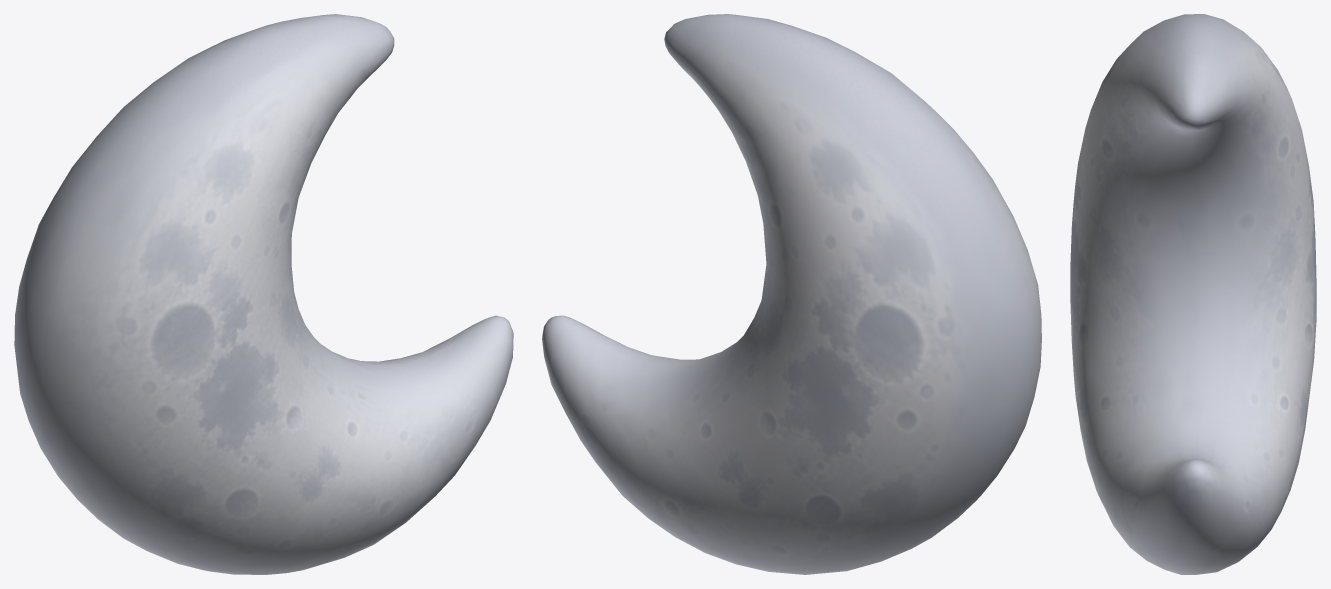
File: obj_luna.fbx
3 views of the same model, side by side, from view 1: azimuth 30°, elevation 25°; view 2: azimuth 150°, elevation 25°; view 3: azimuth 270°, elevation 25° (orthographic). The views are drawn at different scales.
Visible parts, largest first — view 1: SM_Luna_Movil; view 2: SM_Luna_Movil; view 3: SM_Luna_Movil.
Boxes of the visible parts, x1,y1,x2,y2 form: SM_Luna_Movil: [14, 14, 513, 574]; SM_Luna_Movil: [542, 14, 1041, 574]; SM_Luna_Movil: [1070, 14, 1316, 574].
Size of the model in its own units: 0.4535 by 0.48 by 0.2077.
